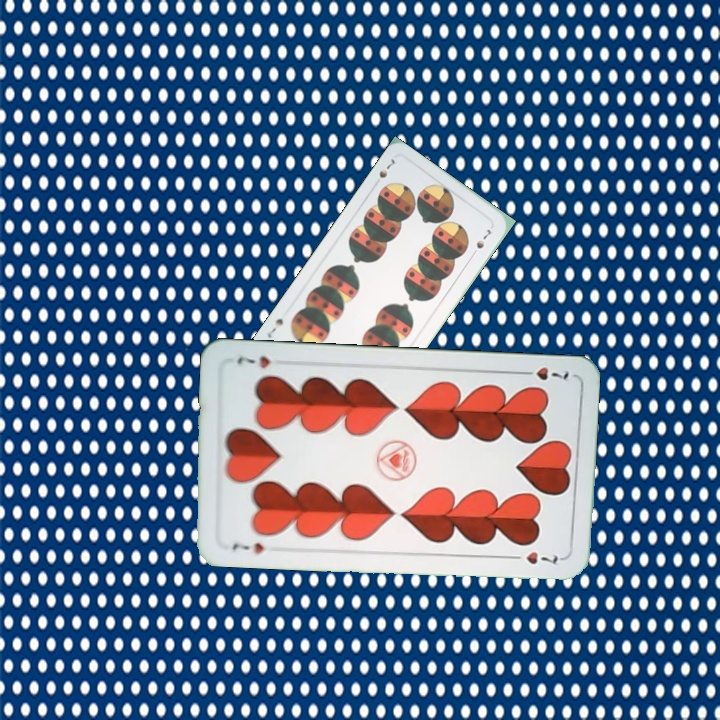H7: (515, 362, 571, 383), (228, 539, 266, 556)
S7: (369, 155, 397, 189)
